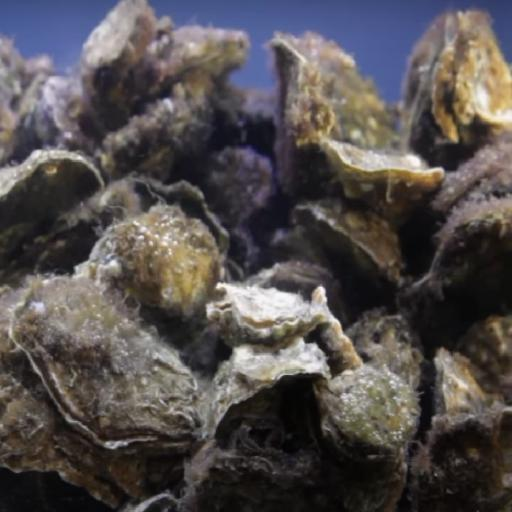Oyster-Closed: (1, 284, 190, 499), (270, 31, 391, 196), (85, 211, 226, 324), (408, 12, 512, 150), (208, 344, 335, 436), (317, 372, 420, 468), (142, 25, 255, 99), (81, 7, 150, 69)
Oyster-Open: (13, 280, 201, 462), (104, 173, 243, 285), (209, 284, 331, 350)
